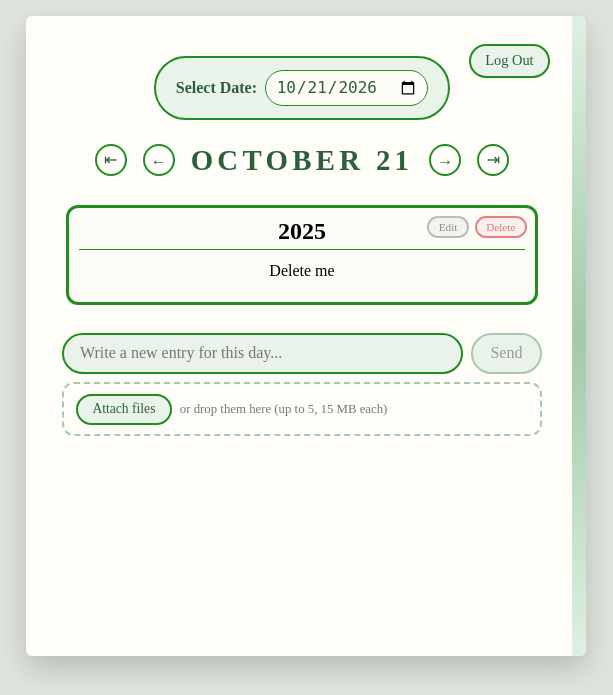
JournalApp › removes an entry from the list after a successful delete
This screenshot has width=613, height=695.
Check: the text "Delete me" is shown, box [79,258,525,283]
Click the button "Delete": (501, 227) [475,216,527,238]
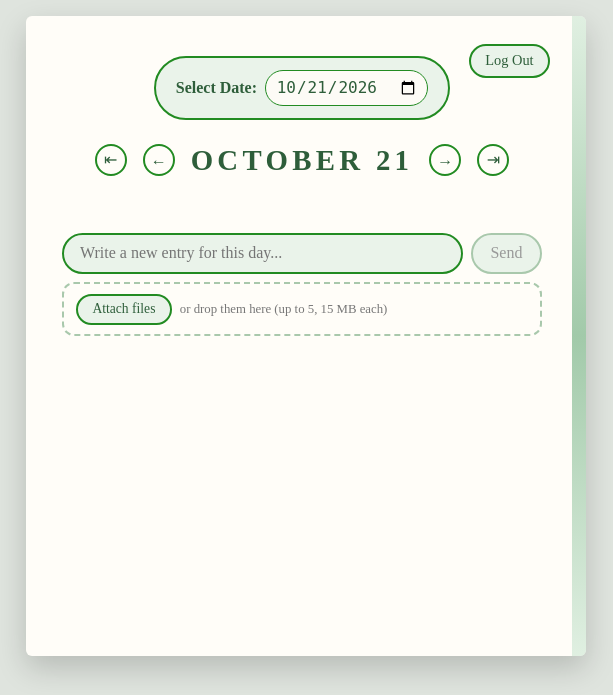
Check: the text "Delete me" is gone
